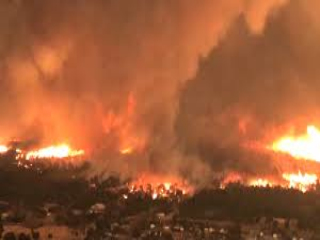fire: (269, 123, 320, 193), (19, 142, 85, 168), (136, 174, 195, 200)
smoke: (96, 9, 254, 175), (22, 8, 137, 127)
